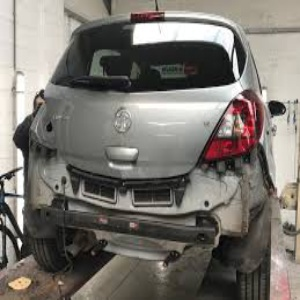bumper: (27, 186, 254, 262)
